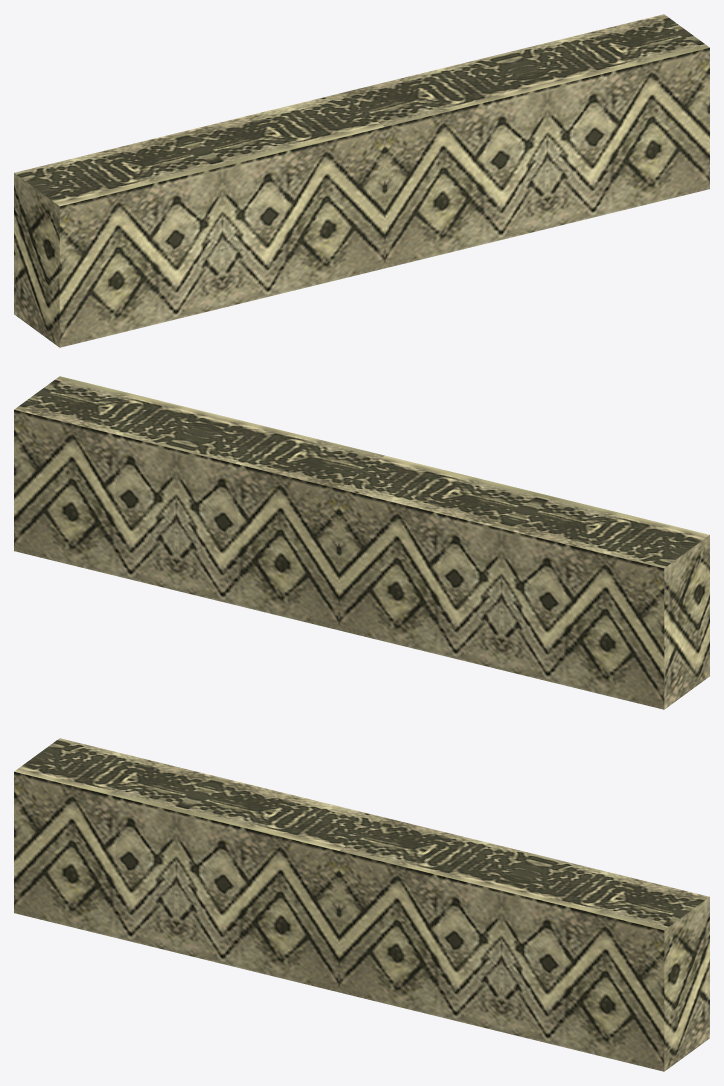
File: jungle_small_border.gltf
The picture shows the model from 3 angles, top to bottom: view 1: azimuth 30°, elevation 25°; view 2: azimuth 150°, elevation 25°; view 3: azimuth 330°, elevation 25°; orthographic projection.
Parts seen in each view (by area): view 1: jungle_small_border_glb; view 2: jungle_small_border_glb; view 3: jungle_small_border_glb.
Boxes of the visible parts, bbox=[...] form: jungle_small_border_glb: bbox=[14, 14, 709, 347]; jungle_small_border_glb: bbox=[14, 376, 709, 709]; jungle_small_border_glb: bbox=[14, 738, 709, 1071].
Size of what is drawn, in the model's own units: 2.27 by 0.4726 by 0.2771.
1 material, 1 textured.
